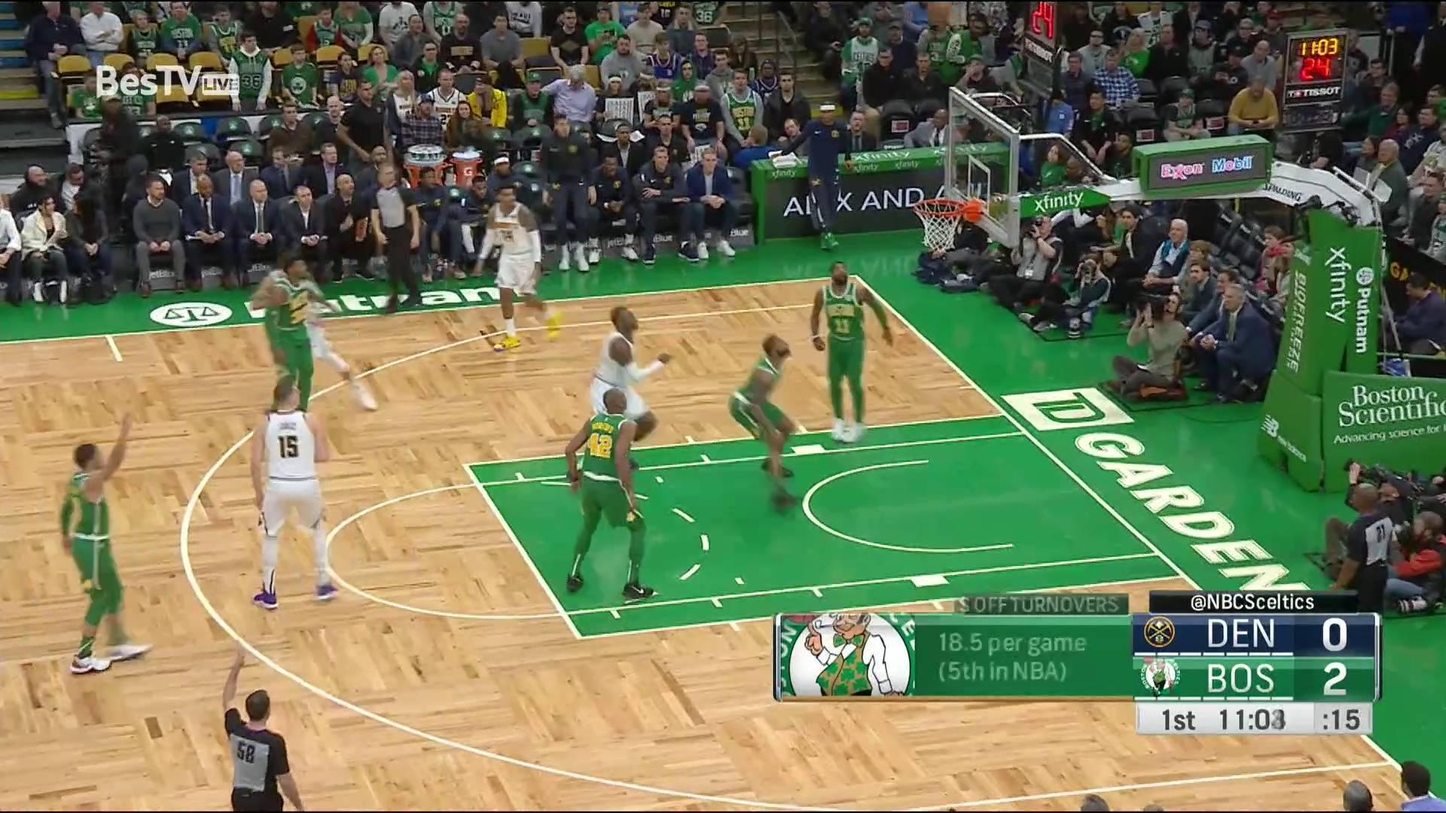basketball: (926, 3, 953, 23)
